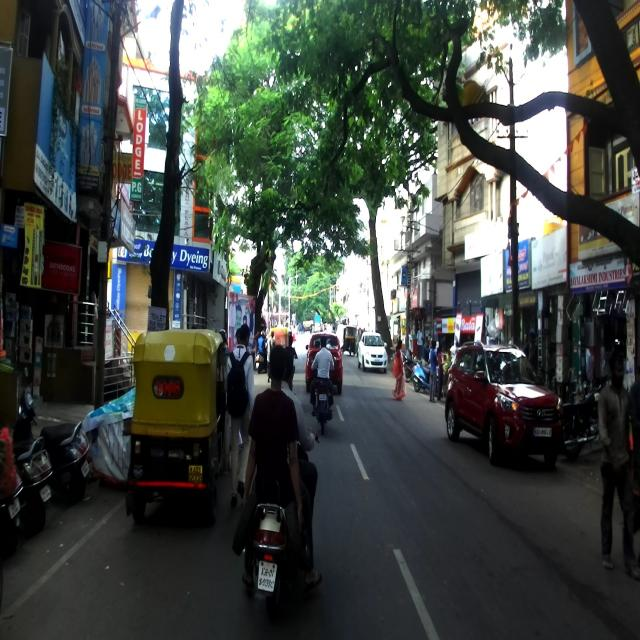Car_Hyundai: (444, 340, 565, 467)
autorickshaw: (125, 327, 229, 526)
motorcycle_Hero: (310, 356, 338, 434)
motorcycle_RoyalEnfield: (562, 372, 608, 459)
scooter: (250, 421, 320, 622), (13, 368, 91, 500), (9, 435, 53, 536)
